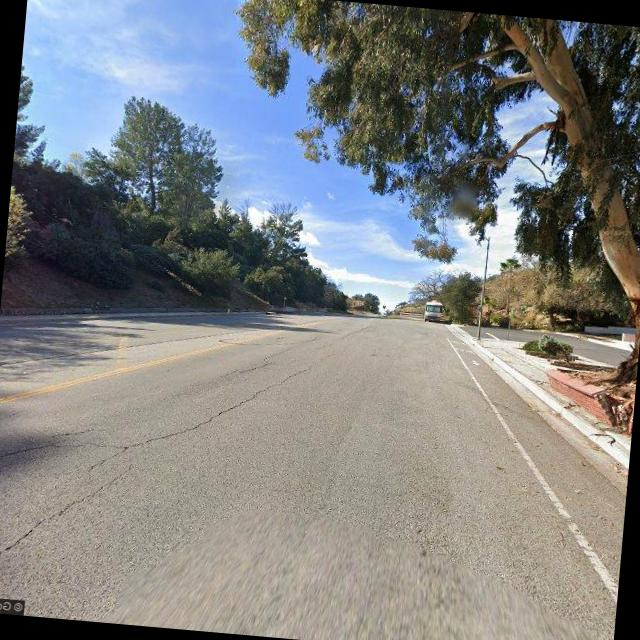pothole: (9, 331, 315, 480), (0, 461, 131, 582)
